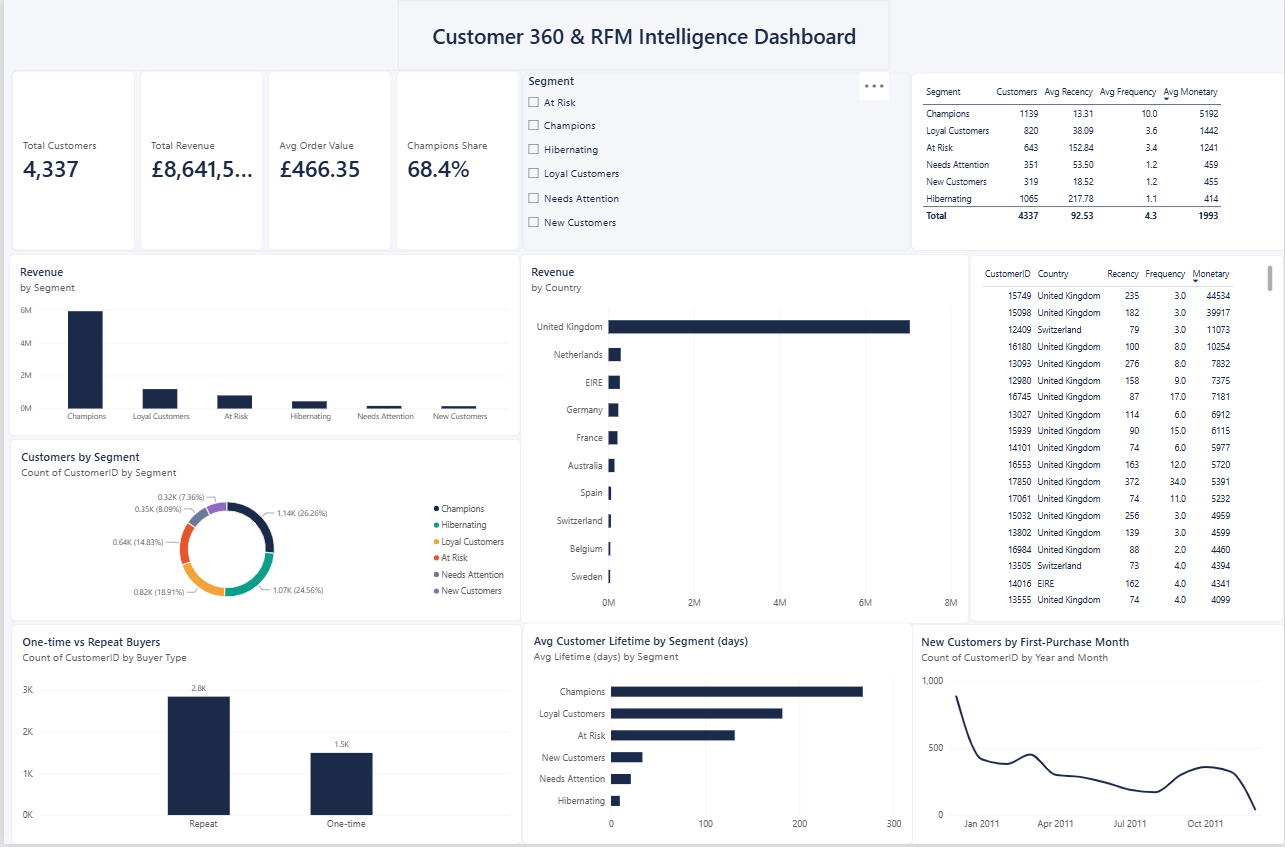

What the dashboard file says about the page in this screenshot:
{"tool":"powerbi","page":{"name":"Page 1","canvas":[1970,1300],"ordinal":0},"visuals":[{"type":"cardVisual","fields":{"Data":["customer_360.Total Customers Display","customer_360.Total Revenue Display","customer_360.Avg Order Value Display","customer_360.Champions Share Display"]},"box":[10.9,108.7,784.8,278.3],"z":0},{"type":"clusteredColumnChart","fields":{"Category":["customer_360.Segment"],"Y":["Sum(customer_360.Monetary)"]},"box":[7.7,392.3,786,280],"z":1000},{"type":"donutChart","title":"Customers by Segment","fields":{"Category":["customer_360.Segment"],"Y":["Count(customer_360.CustomerID)"]},"box":[10.3,676.9,786,280],"z":2000},{"type":"clusteredBarChart","fields":{"Category":["customer_360.Country"],"Y":["Sum(customer_360.Monetary)"]},"box":[794.9,392.3,690.7,568.5],"z":3000},{"type":"slicer","fields":{"Values":["customer_360.Segment"]},"box":[797.8,113,595.7,273.9],"z":4000},{"type":"tableEx","fields":{"Values":["customer_360.CustomerID","customer_360.Country","customer_360.Recency","customer_360.Frequency","customer_360.Monetary"]},"box":[1487,393.5,482.6,563],"z":5000},{"type":"tableEx","fields":{"Values":["customer_360.Segment","Count(customer_360.CustomerID)","Avg(customer_360.Recency)","Avg(customer_360.Frequency)","Avg(customer_360.Monetary)"]},"box":[1395.7,113,576.1,273.9],"z":6000},{"type":"lineChart","title":"New Customers by First-Purchase Month","fields":{"Category":["customer_360.First_Purchase.Variation.Date Hierarchy.Year","customer_360.First_Purchase.Variation.Date Hierarchy.Month"],"Y":["Count(customer_360.CustomerID)"]},"box":[1394.9,961.5,575.9,338.9],"z":7000},{"type":"clusteredBarChart","title":"Avg Customer Lifetime by Segment (days)","fields":{"Category":["customer_360.Segment"],"Y":["Avg(customer_360.Customer_Lifetime_Days)"]},"box":[797.4,959,600,340.7],"z":8000},{"type":"clusteredColumnChart","title":"One-time vs Repeat Buyers","fields":{"Category":["customer_360.Buyer Type"],"Y":["Count(customer_360.CustomerID)"]},"box":[10.9,960.9,784.8,339.1],"z":9000},{"type":"shape","box":[605.1,2.6,759,107.7],"z":9001}]}

Visuals, with their boxes in screenshot pixels (x1, y1, x2, y2), scaled from the page's 1970x1300 canvas onto the 1285x847 screenshot:
cardVisual - customer_360.Total Customers Display x customer_360.Total Revenue Display: BBox(7, 71, 519, 252)
clusteredColumnChart - customer_360.Segment x Sum(customer_360.Monetary): BBox(5, 256, 518, 438)
"Customers by Segment" donutChart: BBox(7, 441, 519, 623)
clusteredBarChart - customer_360.Country x Sum(customer_360.Monetary): BBox(519, 256, 969, 626)
slicer - customer_360.Segment: BBox(520, 74, 909, 252)
tableEx - customer_360.CustomerID x customer_360.Country: BBox(970, 256, 1284, 623)
tableEx - customer_360.Segment x Count(customer_360.CustomerID): BBox(910, 74, 1284, 252)
"New Customers by First-Purchase Month" lineChart: BBox(910, 626, 1284, 846)
"Avg Customer Lifetime by Segment (days)" clusteredBarChart: BBox(520, 625, 912, 846)
"One-time vs Repeat Buyers" clusteredColumnChart: BBox(7, 626, 519, 846)
shape: BBox(395, 2, 890, 72)
